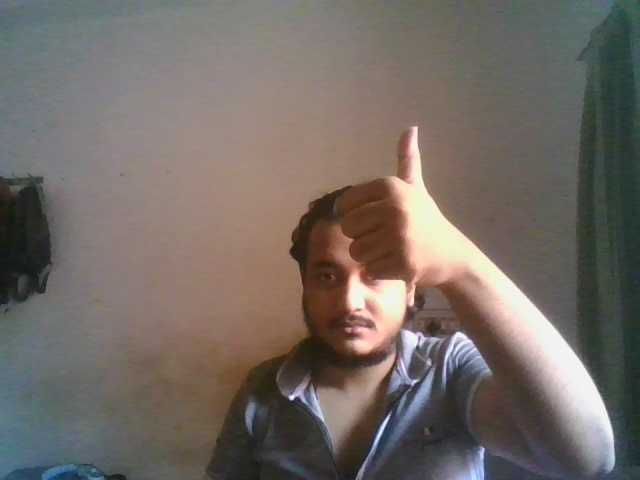ThumbsUp: (337, 124, 451, 289)
